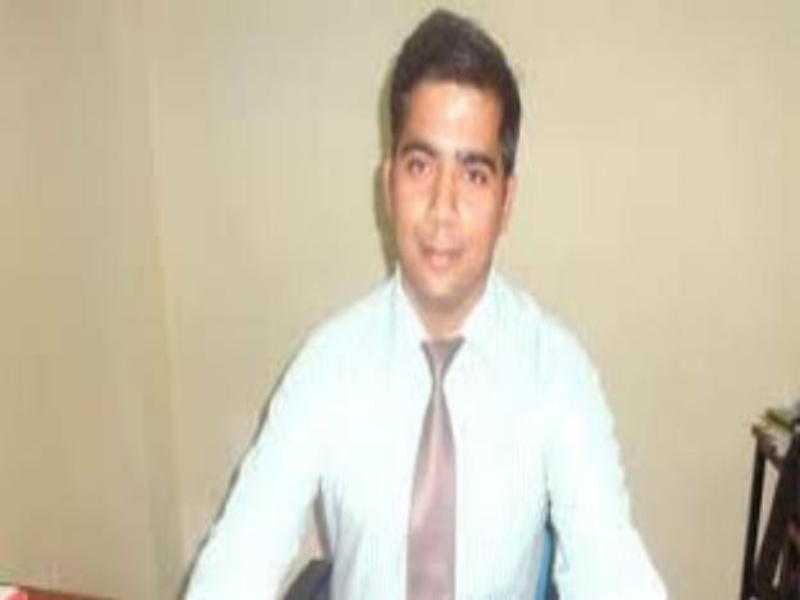TsisyArotava: (354, 8, 535, 307)
